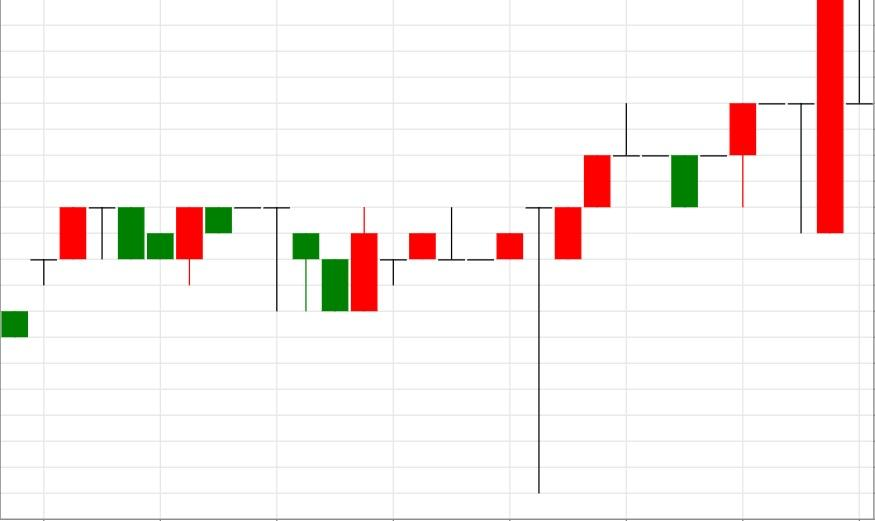bullish_engulfing_rise: (175, 206, 379, 312)
evening_star_fall: (0, 206, 145, 338)
